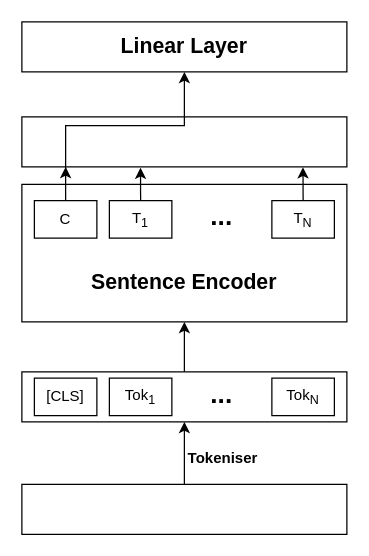
Some shapes in this 369 by 556 pixel diagram are drawn without their labels. Each missing label, with the centre of its shape:
"evidence_spans r + [SEP] + hypothesis" goes at point (184, 508).
"Pooling" goes at point (184, 141).
